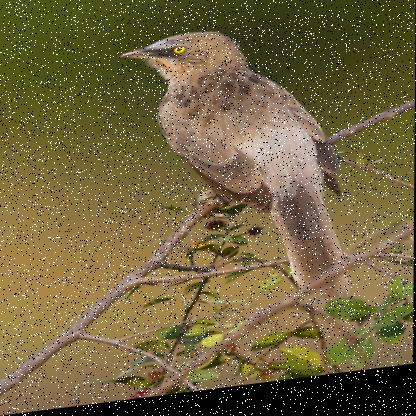Burung: (117, 21, 349, 334)
